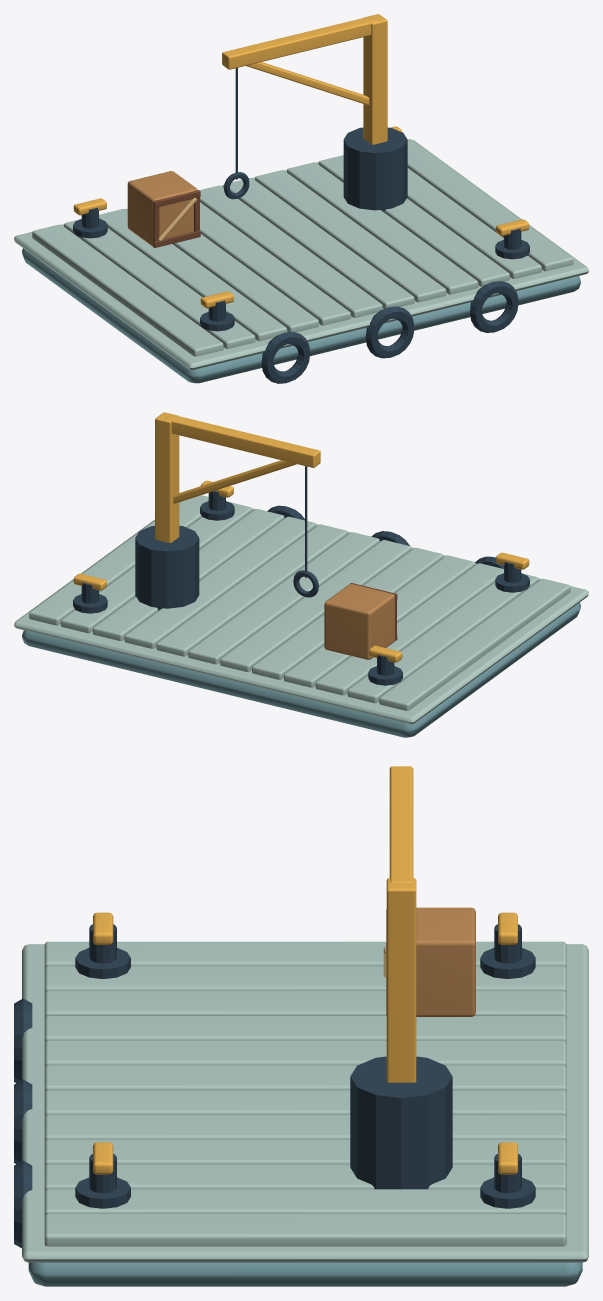
File: Dock_T2.fbx
The picture shows the model from 3 angles, top to bottom: view 1: azimuth 30°, elevation 25°; view 2: azimuth 150°, elevation 25°; view 3: azimuth 270°, elevation 25°; orthographic projection. The views are drawn at different scales.
Visible parts, largest first — view 1: Dock_T2_Static; view 2: Dock_T2_Static, Hoist ring; view 3: Dock_T2_Static.
Part boxes in pixels (box(x1,y1,x2,y2)): Dock_T2_Static: box(14, 14, 588, 383); Dock_T2_Static: box(14, 412, 588, 737); Hoist ring: box(293, 570, 318, 597); Dock_T2_Static: box(14, 766, 588, 1286).
Bounding box in the file's own units: 6.92 × 3.76 × 5.4.
1 material, 1 textured.
